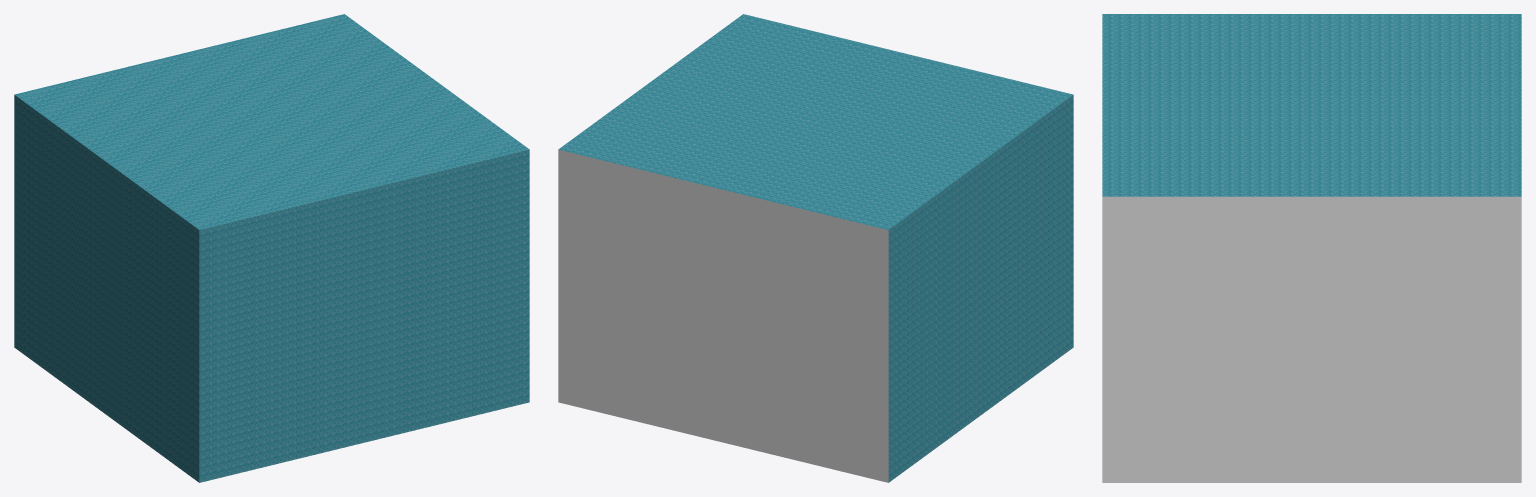
The model's file is aquarium.glb.
3 renders of one model, left to right at view 1: azimuth 30°, elevation 25°; view 2: azimuth 150°, elevation 25°; view 3: azimuth 270°, elevation 25°, orthographic. The views are drawn at different scales.
Parts seen in each view (by area): view 1: SketchUp.001; view 2: SketchUp.001, SketchUp; view 3: SketchUp, SketchUp.001.
Boxes of the visible parts, x1,y1,x2,y2 form: SketchUp.001: (14,14,529,482); SketchUp.001: (558,14,1073,482); SketchUp: (558,149,888,482); SketchUp: (1102,196,1521,482); SketchUp.001: (1102,14,1521,196).
Size of the model in its own units: 70.21 by 51.36 by 68.16.
Materials: 2 (1 with a texture image).
